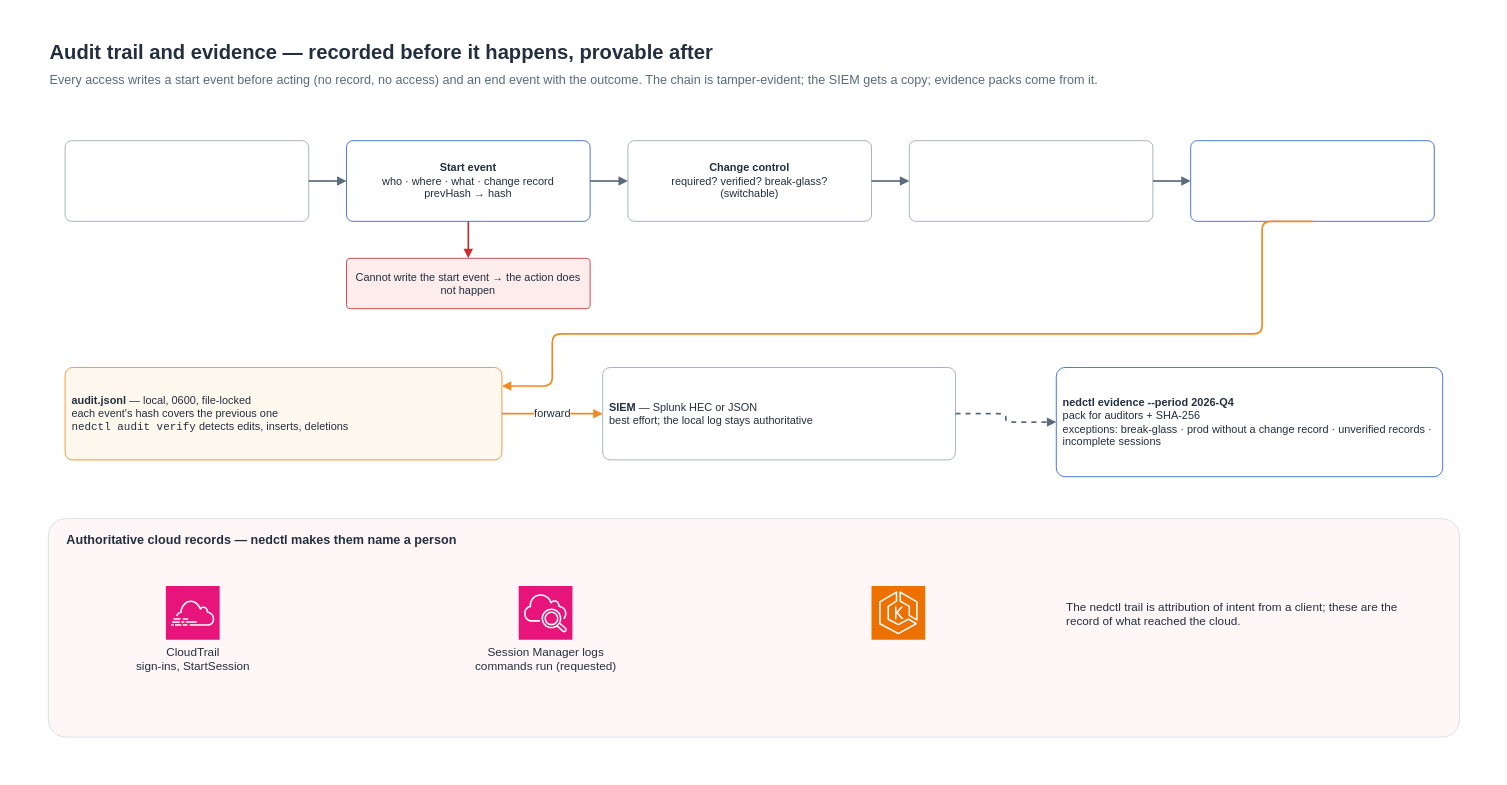
The diagram is 1507 pixels wide and 785 high, and some of its shapes have lost their labels. The shapes that lost their labels are listed below. From the top down, each one's box as (x1, y1, x2, y2) in pixels, then its label:
(64, 140, 309, 221): Command aws login · shell · connect login · env · ec2
(908, 140, 1153, 221): Action SSO profile · SSM session tunnel · credentials
(1190, 140, 1434, 221): End event outcome · acting principal detail
(871, 585, 925, 640): EKS audit log API calls by role session
